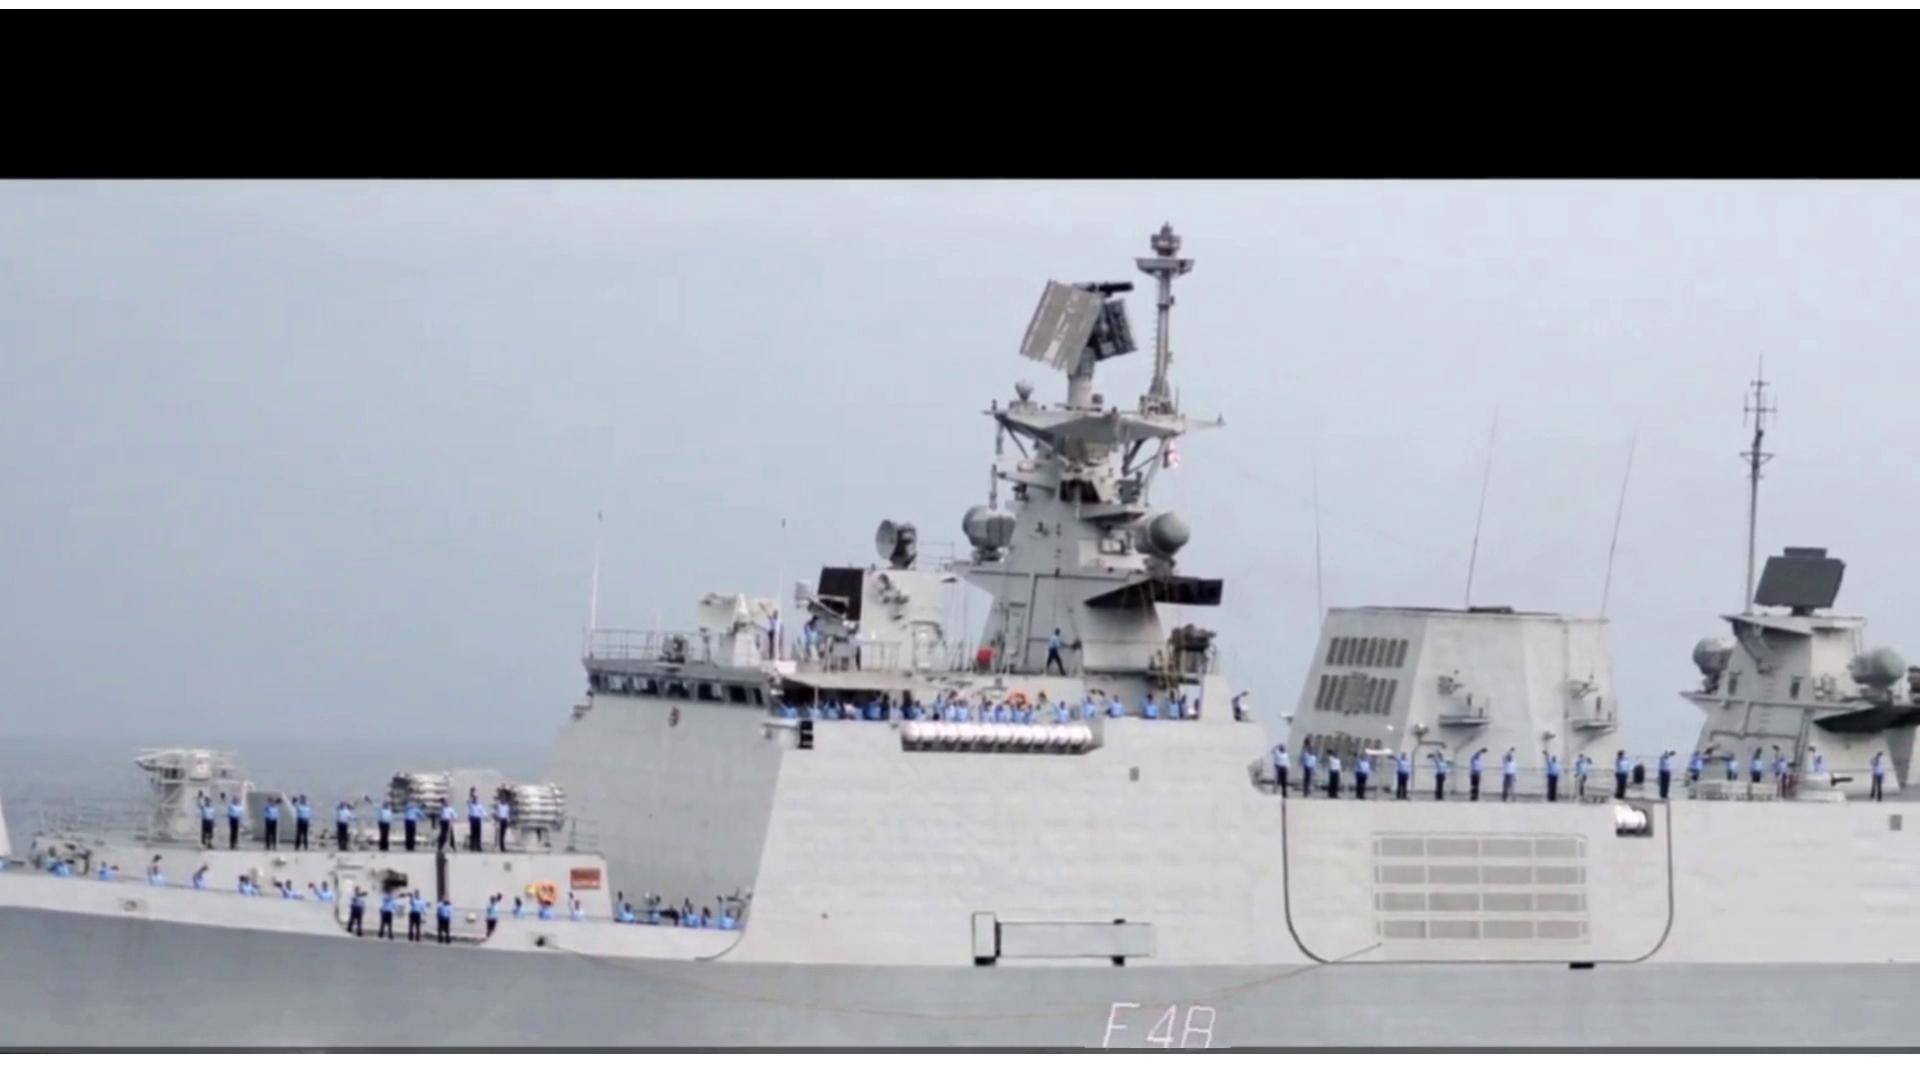OCR: (1076, 986, 1234, 1048)
